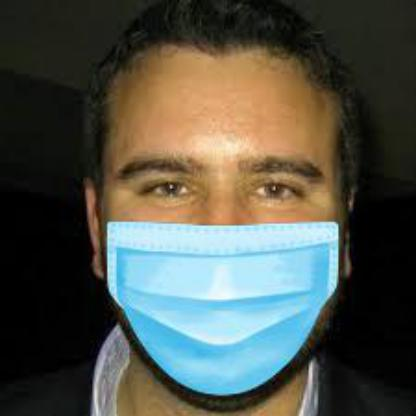Surgical Mask: (87, 117, 347, 392)
